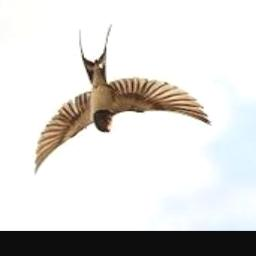Swallow: (33, 23, 210, 175)
